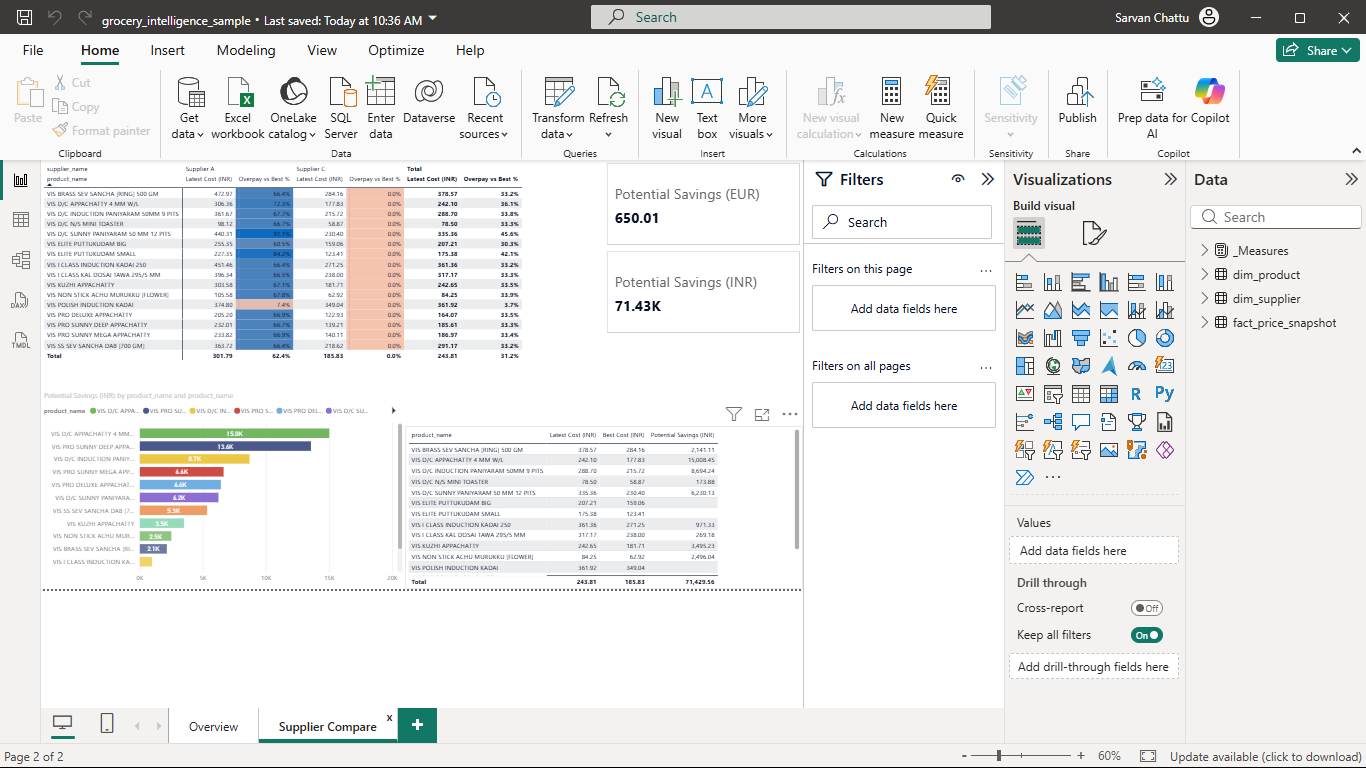

The dashboard page shown, as its layout file describes it:
{"tool":"powerbi","page":{"name":"Supplier Compare","canvas":[1280,720],"ordinal":1},"visuals":[{"type":"pivotTable","fields":{"Rows":["dim_product.product_name"],"Columns":["dim_supplier.supplier_name"],"Values":["_Measures.Latest Cost (INR)","_Measures.overpay vs best %"]},"box":[0,0,833.2,359.5],"z":0},{"type":"cardVisual","fields":{"Data":["_Measures.Potential Savings (INR)"]},"box":[945.7,147.8,334.3,147.8],"z":1000},{"type":"cardVisual","fields":{"Data":["_Measures.Potential Savings (EUR)"]},"box":[945.7,0,334.3,147.8],"z":2000},{"type":"tableEx","fields":{"Values":["dim_product.product_name","_Measures.Latest Cost (INR)","_Measures.Best Cost (INR)","_Measures.Potential Savings (INR)"]},"box":[612,446,668,274],"z":3000},{"type":"barChart","fields":{"Y":["_Measures.Potential Savings (INR)"],"Category":["dim_product.product_name"],"Series":["dim_product.product_name"]},"box":[0,386,612,334],"z":4000}]}

Visuals, with their boxes on the page's 1280x720 design canvas (x1, y1, x2, y2). These are canvas units, not pixel positions in the 1366x768 screenshot, which may show the page scaled, cropped or inside an application window:
pivotTable - dim_product.product_name x dim_supplier.supplier_name: (x1=0, y1=0, x2=833, y2=360)
cardVisual - _Measures.Potential Savings (INR): (x1=946, y1=148, x2=1280, y2=296)
cardVisual - _Measures.Potential Savings (EUR): (x1=946, y1=0, x2=1280, y2=148)
tableEx - dim_product.product_name x _Measures.Latest Cost (INR): (x1=612, y1=446, x2=1280, y2=720)
barChart - _Measures.Potential Savings (INR) x dim_product.product_name: (x1=0, y1=386, x2=612, y2=720)
